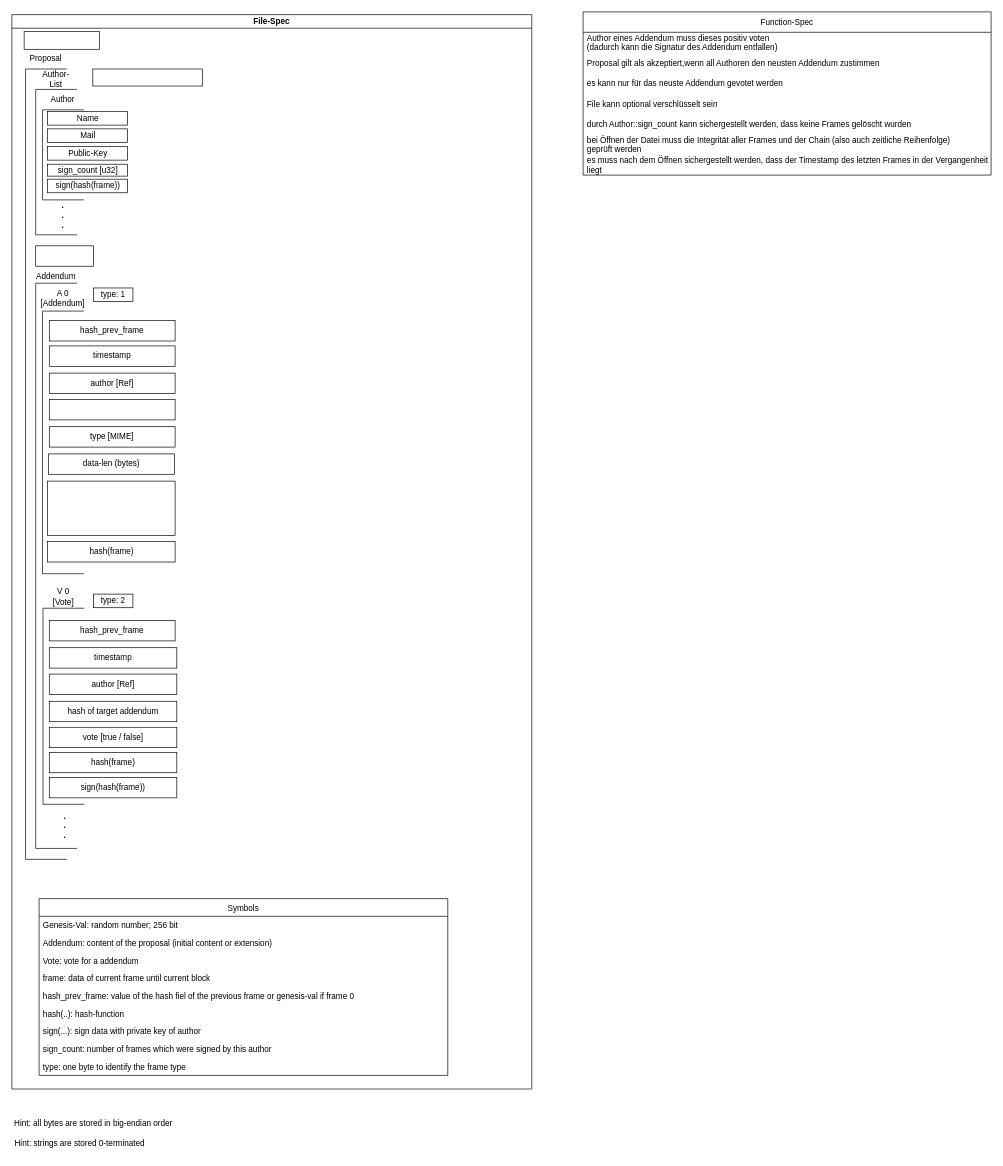
Some shapes in this 1003 by 1166 pixel diagram are drawn without their labels. The shapes that lost their labels are listed below. From the top down, each one's centre as x and y in pixels, then its label:
point (61, 40): Spec-Version
point (147, 77): number_of_authors [u16]
point (64, 255): Genesis-Val
point (112, 409): title [string]
point (111, 508): data [bin]
